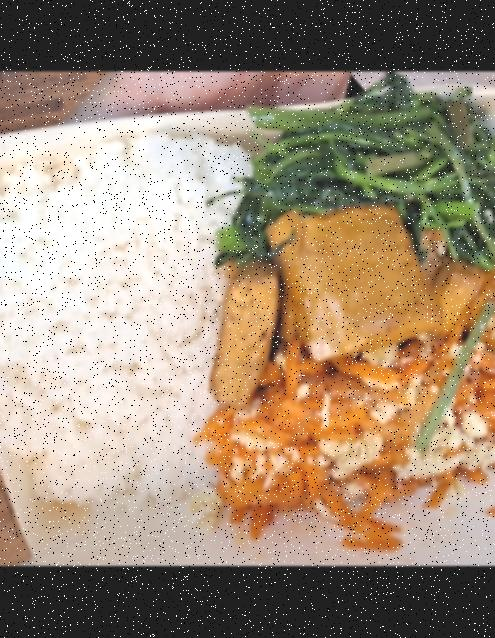box: (0, 87, 495, 543)
side dish: (212, 209, 495, 399), (205, 344, 495, 527), (217, 90, 495, 256)
white rice: (0, 127, 249, 521)
